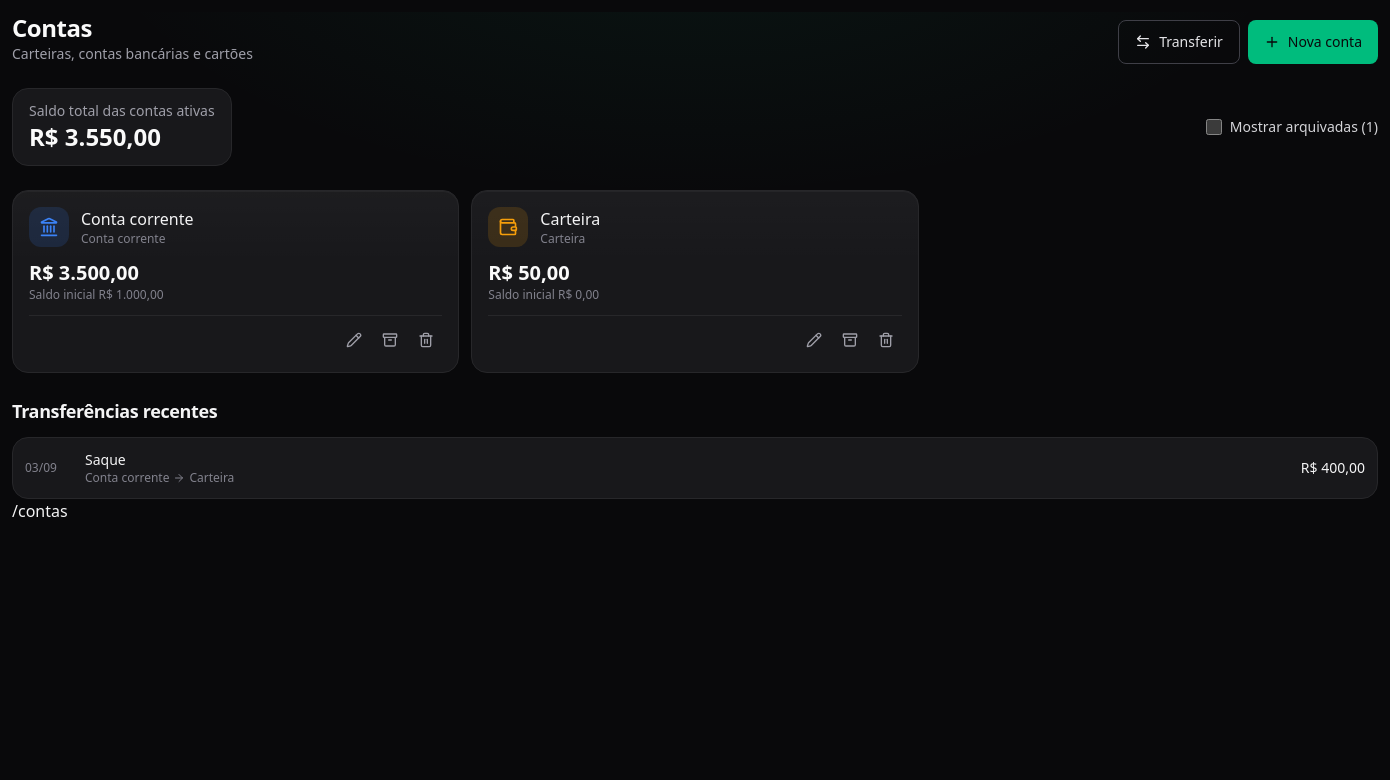
Scenario: AccountsPage › archives an account
What coordinates should you click on to do the following:
click the button named "Arquivar Carteira"
I would click on:
 (850, 340)
Its box is [834,324,866,356].
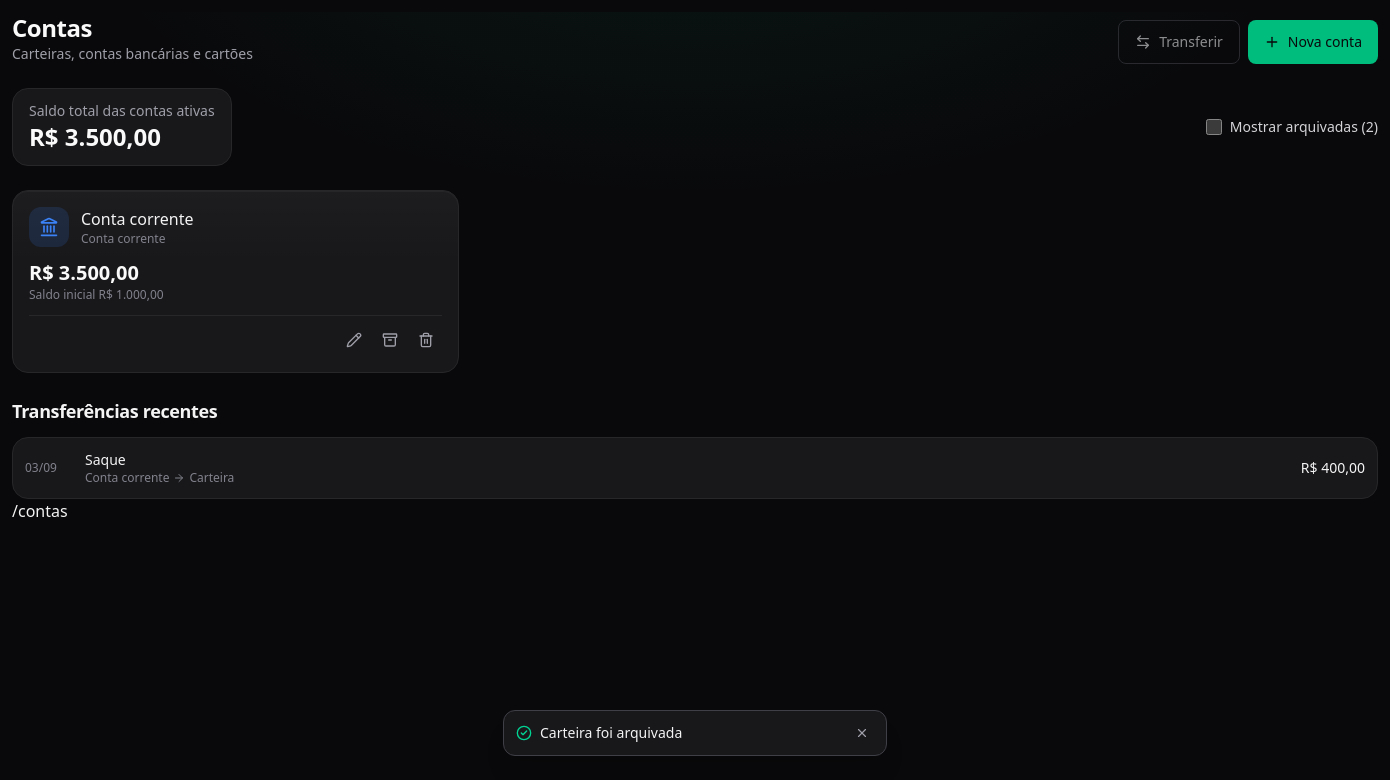
Expected: the text "Carteira foi arquivada" is shown, [540,723,682,742]
